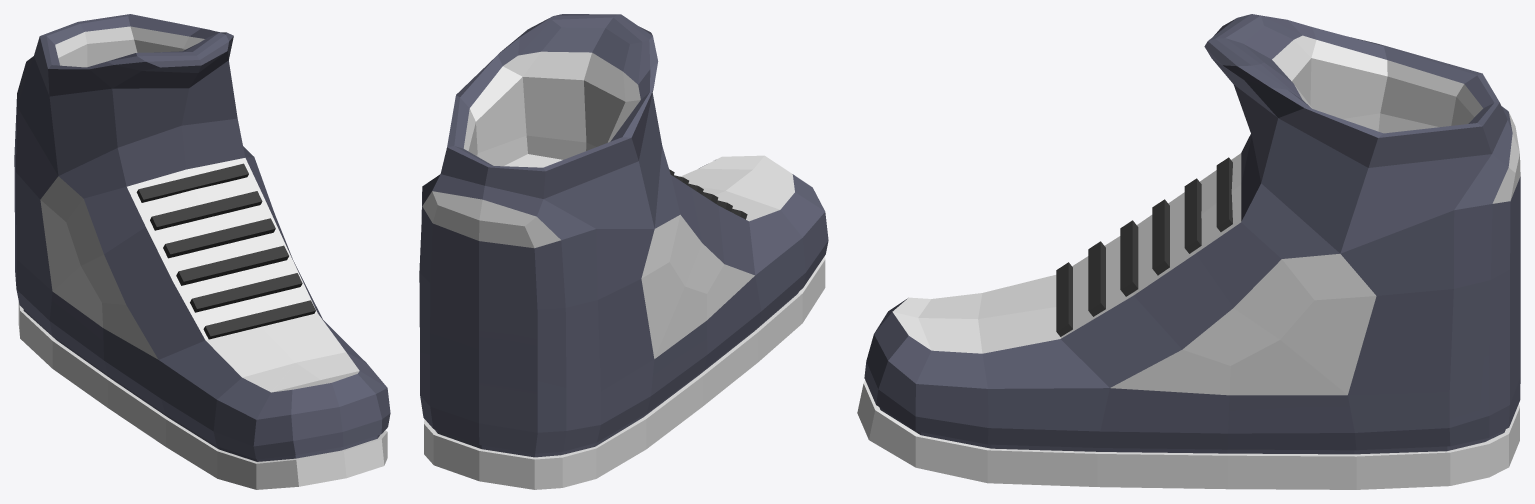
Rendered from Clothes9_C2.fbx.
3 views of the same model, side by side, from view 1: azimuth 30°, elevation 25°; view 2: azimuth 150°, elevation 25°; view 3: azimuth 270°, elevation 25° (orthographic). The views are drawn at different scales.
Parts seen in each view (by area): view 1: Clothes9_C2; view 2: Clothes9_C2; view 3: Clothes9_C2.
Boxes of the visible parts, <box> form: Clothes9_C2: <box>14,14,390,489</box>; Clothes9_C2: <box>419,14,828,489</box>; Clothes9_C2: <box>857,14,1520,489</box>.
Size of the model in its own units: 7.6 by 13.71 by 20.49.
